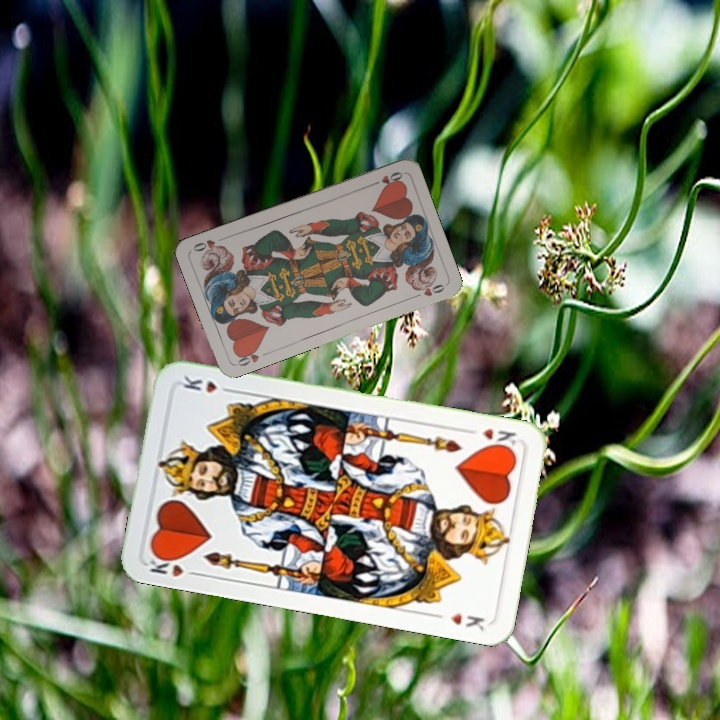HK: (145, 549, 203, 580), (478, 424, 519, 453)
HO: (366, 168, 405, 189), (232, 344, 262, 369)
